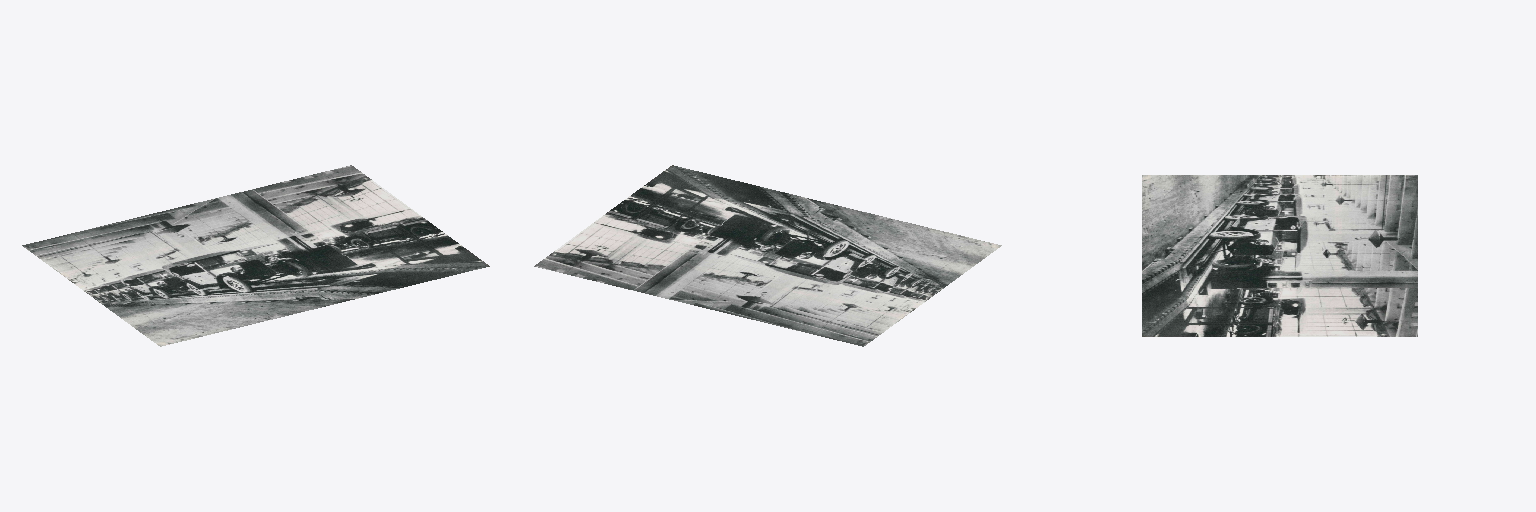
3 views of the same model, side by side, from view 1: azimuth 30°, elevation 25°; view 2: azimuth 150°, elevation 25°; view 3: azimuth 270°, elevation 25° (orthographic).
Parts seen in each view (by area): view 1: Plane001; view 2: Plane001; view 3: Plane001.
Boxes of the visible parts, box(x1,y1,x2,y2) form: Plane001: box(22, 165, 489, 346); Plane001: box(534, 165, 1001, 346); Plane001: box(1142, 175, 1417, 336).
Bounding box in the file's own units: 4.09 × 0 × 2.97.
Materials: 1 (1 with a texture image).